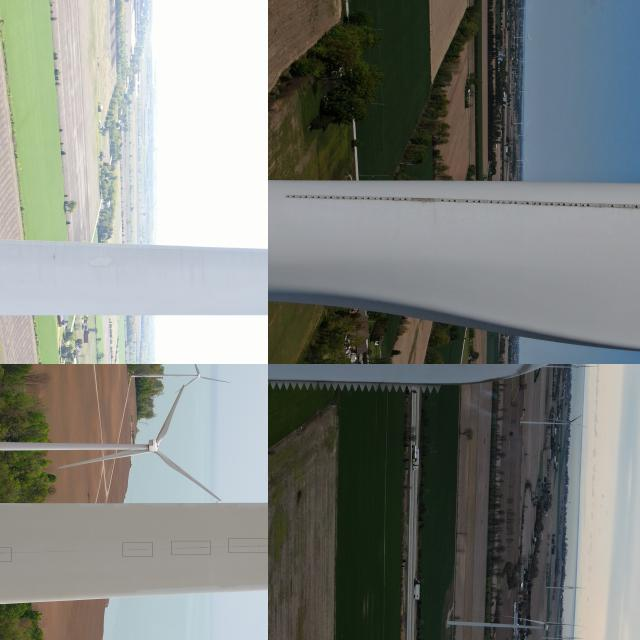damage: (170, 543, 210, 551), (582, 200, 606, 210), (124, 546, 150, 554), (409, 195, 438, 202), (227, 543, 267, 548), (0, 550, 10, 556)
